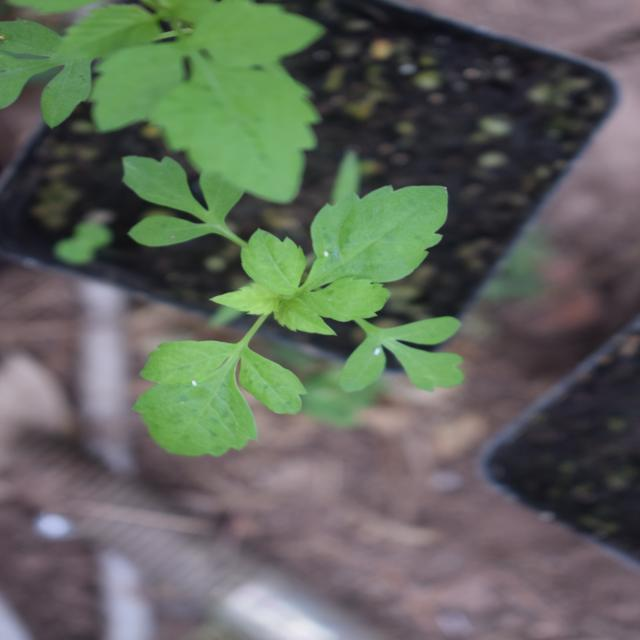Bidens pilosa: (152, 164, 459, 542)
